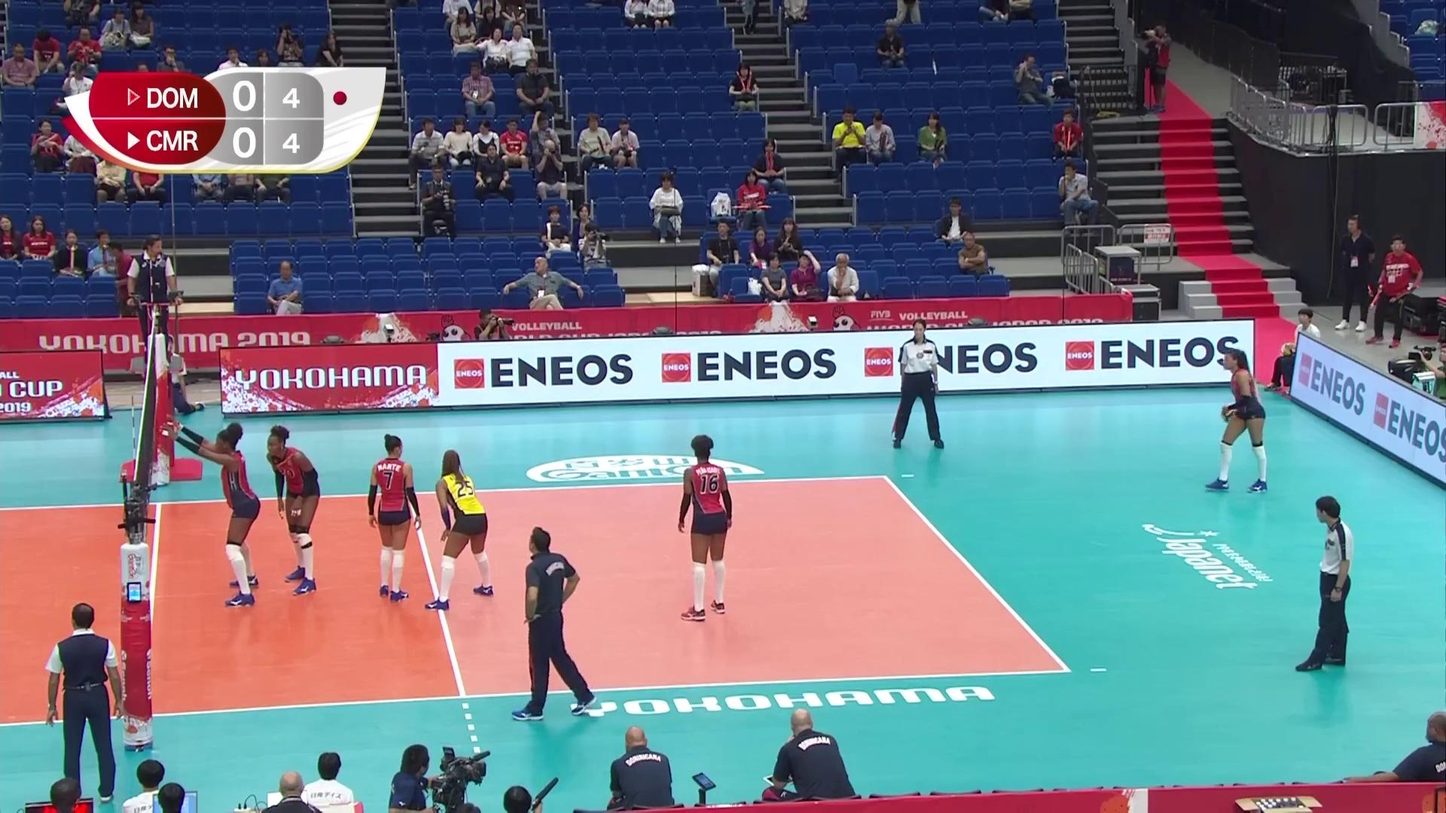player: (173, 424, 259, 607), (675, 436, 734, 618), (430, 449, 495, 608), (265, 423, 323, 593), (366, 433, 420, 602), (1207, 350, 1269, 493)
refree: (44, 605, 129, 801), (1301, 495, 1355, 676), (892, 319, 944, 449), (129, 234, 177, 359)
